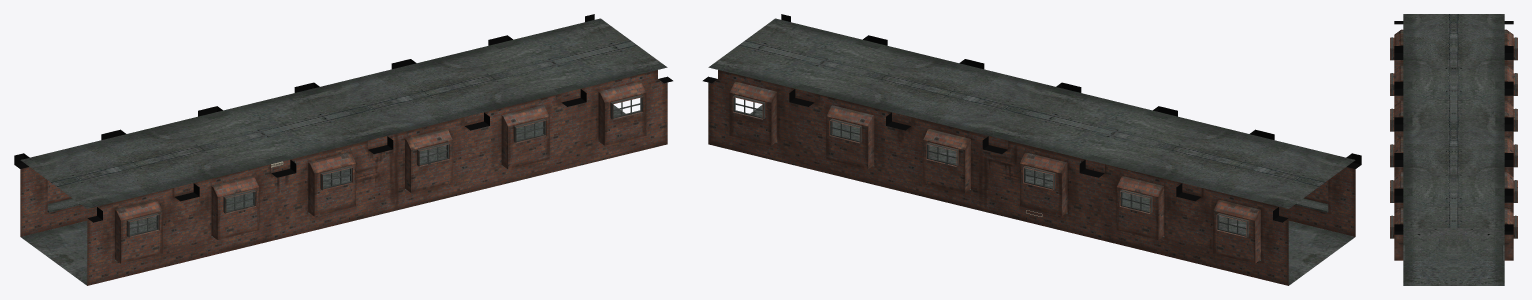
The model's file is interior environment wall separate1.glb.
3 views of the same model, side by side, from view 1: azimuth 30°, elevation 25°; view 2: azimuth 150°, elevation 25°; view 3: azimuth 270°, elevation 25° (orthographic). The views are drawn at different scales.
Parts seen in each view (by area): view 1: interior wall main; view 2: interior wall main; view 3: interior wall main.
Part boxes in pixels (x1,y1,x2,y2): interior wall main: [14, 14, 672, 285]; interior wall main: [703, 14, 1361, 285]; interior wall main: [1390, 14, 1517, 285].
Bounding box in the file's own units: 220 × 27.87 × 55.67.
6 materials, 5 textured.
